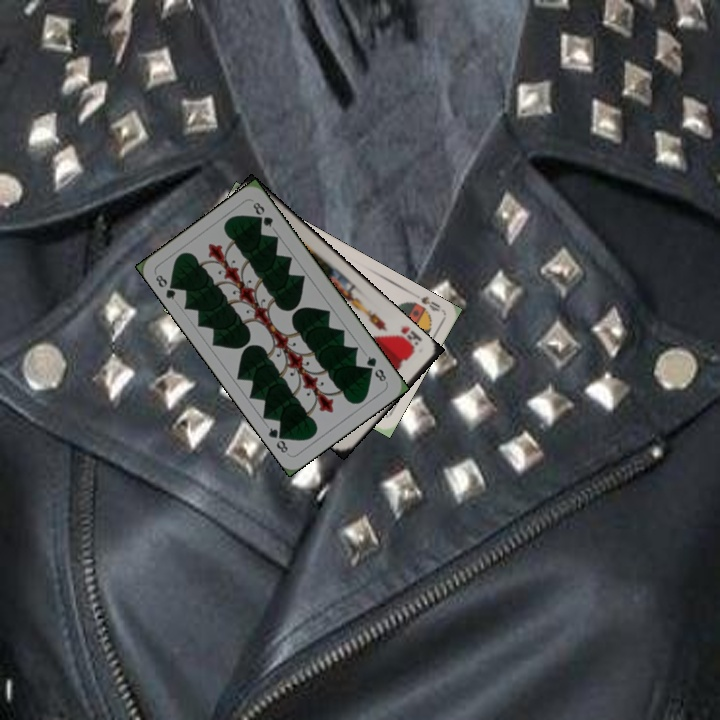G8: (151, 271, 181, 302), (362, 352, 389, 386)
HK: (393, 322, 425, 354)
SO: (402, 292, 443, 315)
